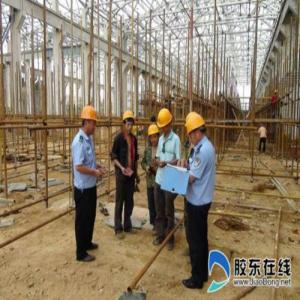yellow: (187, 113, 206, 146), (81, 105, 99, 137), (157, 109, 174, 137), (122, 109, 136, 136), (148, 124, 161, 146)
